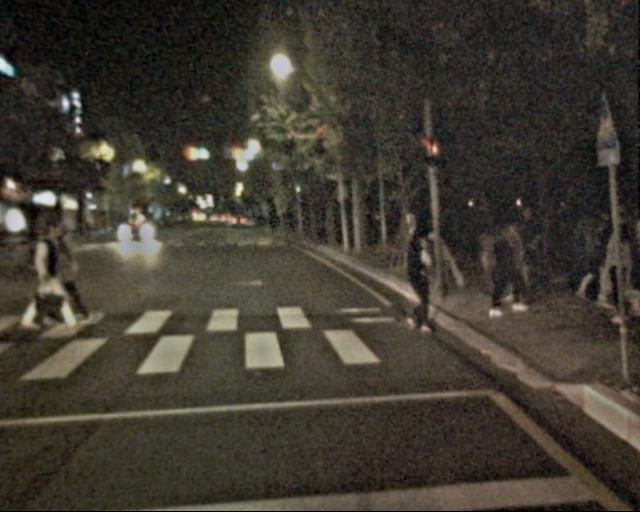person: (483, 209, 542, 320), (395, 227, 441, 340), (594, 222, 637, 328), (31, 219, 73, 322), (46, 229, 85, 323), (585, 206, 621, 294), (569, 211, 603, 295)
